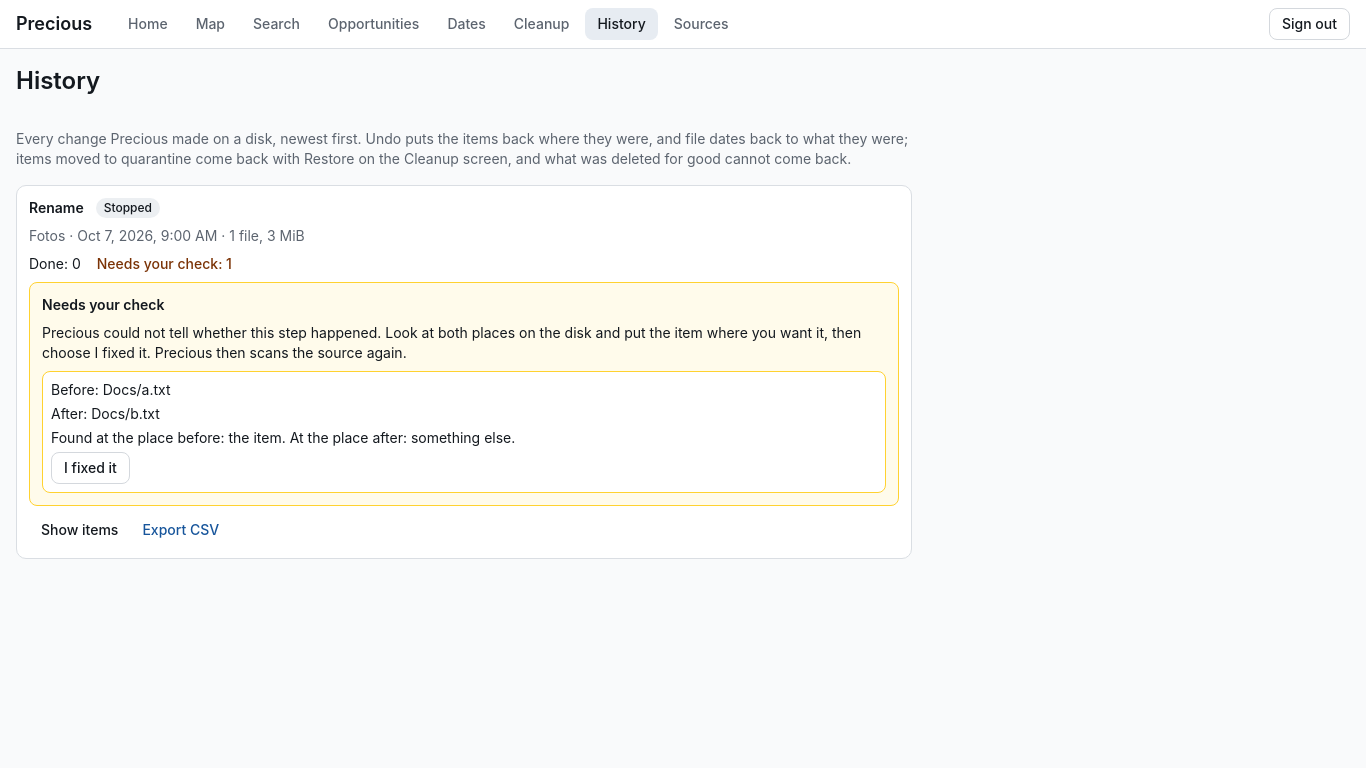
Test: History › shows an item that needs a check with both paths and what was found, and resolves it
The width and height of the screenshot is (1366, 768).
Expected: the element "Rename" is shown, [16,185,912,559]
Expected: the list item "Needs your check: 1" is shown, [97,254,232,274]
Click the button "I fixed it".
click(90, 468)  # box [51,452,130,484]
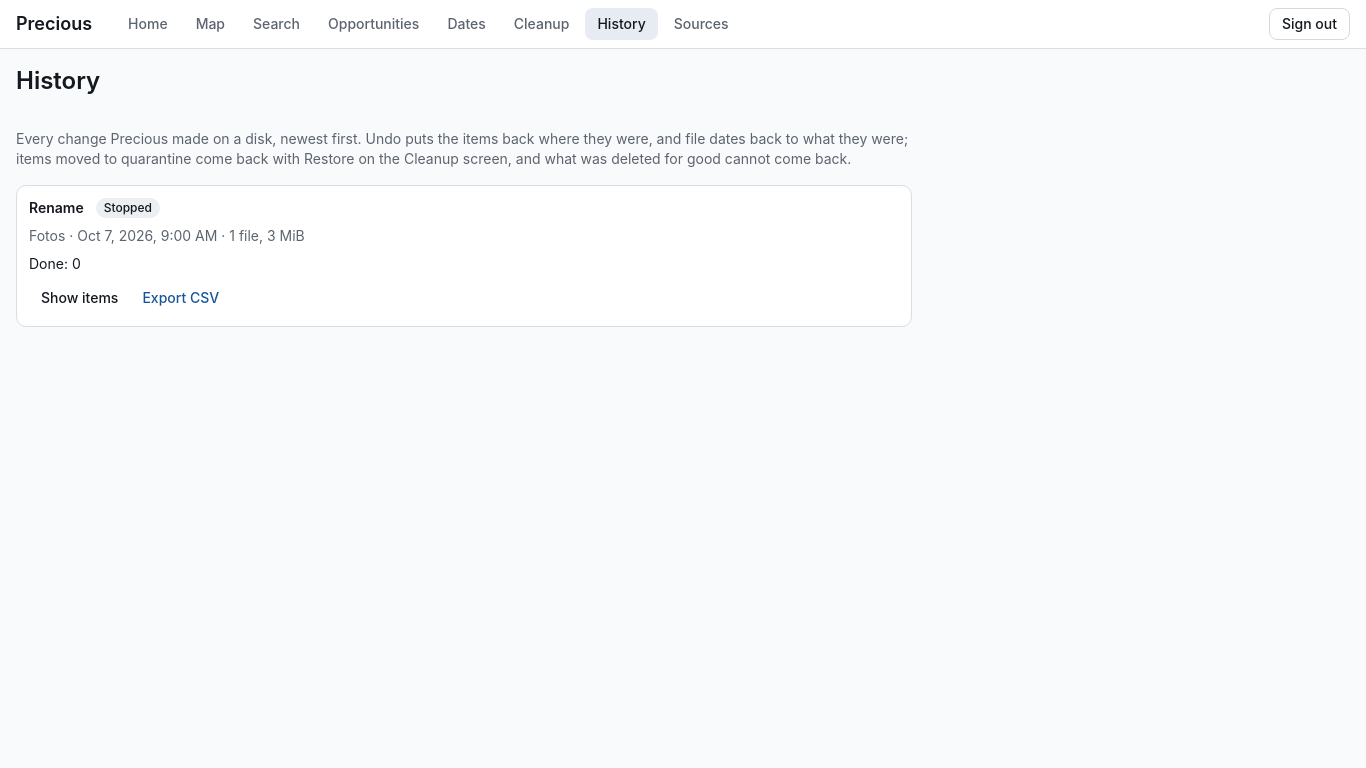
Expected: the list item "Needs your check" is gone
